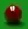brown: (0, 0, 28, 29)
